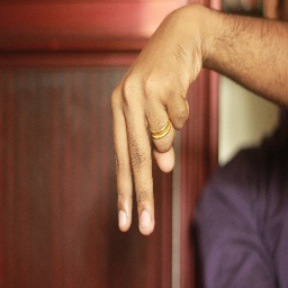Y: (103, 40, 200, 237)
